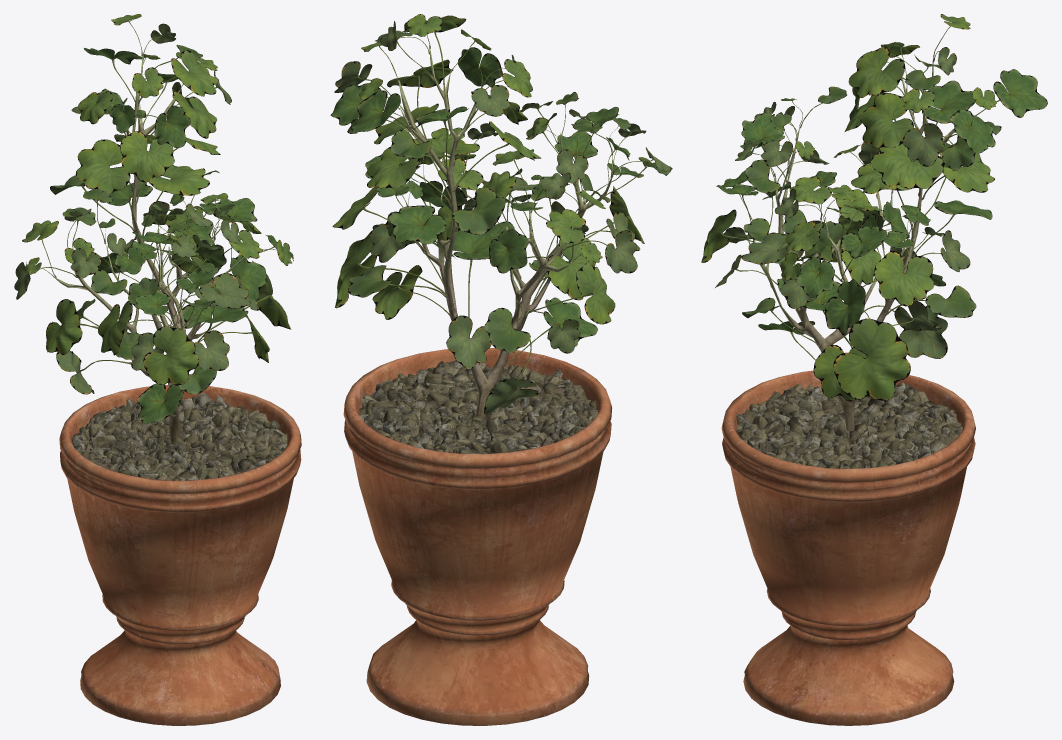
File: potted_plant_01.glb
3 renders of one model, left to right at view 1: azimuth 30°, elevation 25°; view 2: azimuth 150°, elevation 25°; view 3: azimuth 270°, elevation 25°, orthographic. The views are drawn at different scales.
Parts seen in each view (by area): view 1: potted_plant_01_stem, potted_plant_01_leaves; view 2: potted_plant_01_stem, potted_plant_01_leaves; view 3: potted_plant_01_stem, potted_plant_01_leaves.
Boxes of the visible parts, bbox=[...] form: potted_plant_01_stem: bbox=[54, 54, 301, 725]; potted_plant_01_leaves: bbox=[14, 14, 293, 424]; potted_plant_01_stem: bbox=[343, 48, 612, 725]; potted_plant_01_leaves: bbox=[330, 14, 672, 414]; potted_plant_01_stem: bbox=[721, 55, 975, 725]; potted_plant_01_leaves: bbox=[701, 14, 1047, 401].
Size of the model in its own units: 0.5874 by 1.34 by 0.6336.
2 materials, 2 textured.
